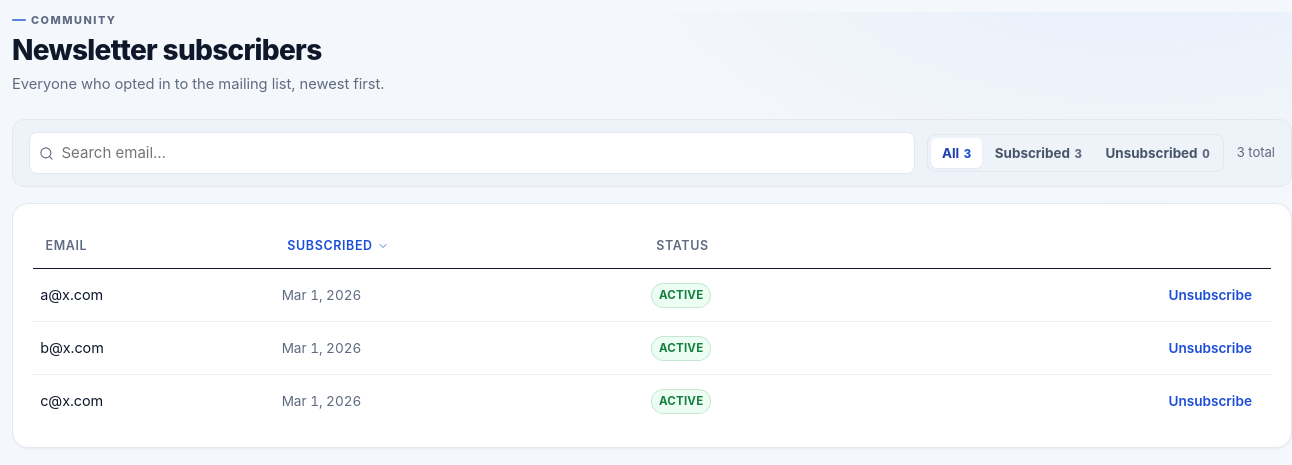
Newsletter subscribers › reports how far the filters narrowed the list
This screenshot has width=1292, height=465.
Expected: the text "3 total" is shown, [1236,143,1275,163]
Type "a@" into the search field labelled "Search" at {"x": 472, "y": 153}, box [29,132,915,174]
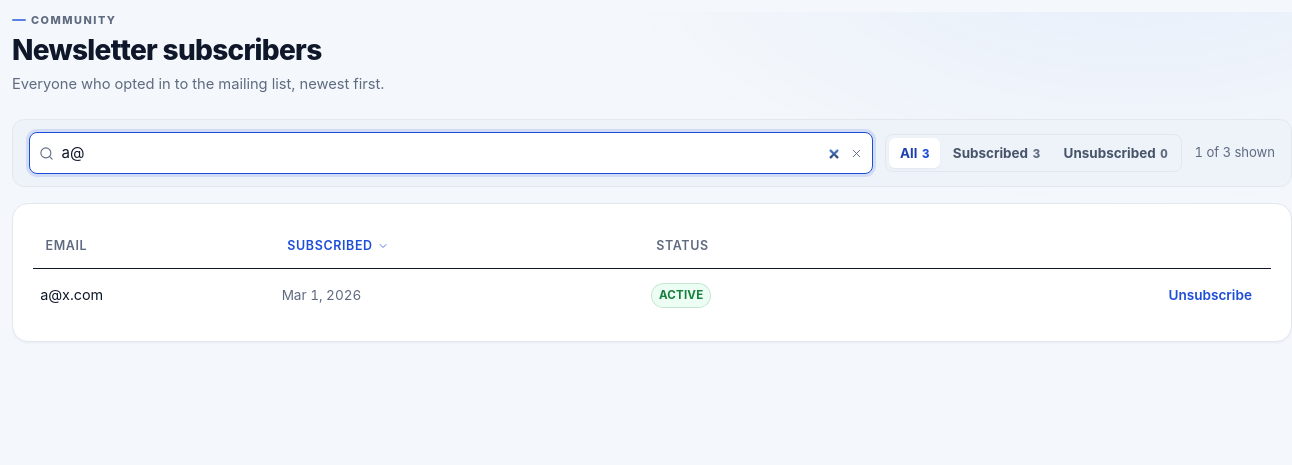
Result: the text "1 of 3 shown" is shown at [1194,143,1275,163]
